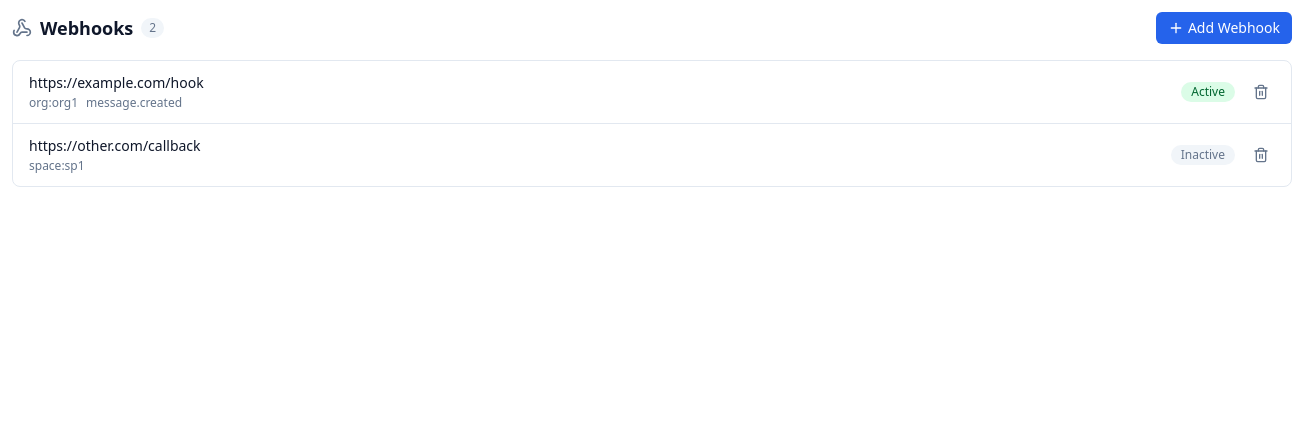
Test case: WebhookManager › shows create form when Add Webhook clicked
Click the button with test id "webhook-create-toggle" at (1224, 28), box [1156, 12, 1292, 44]
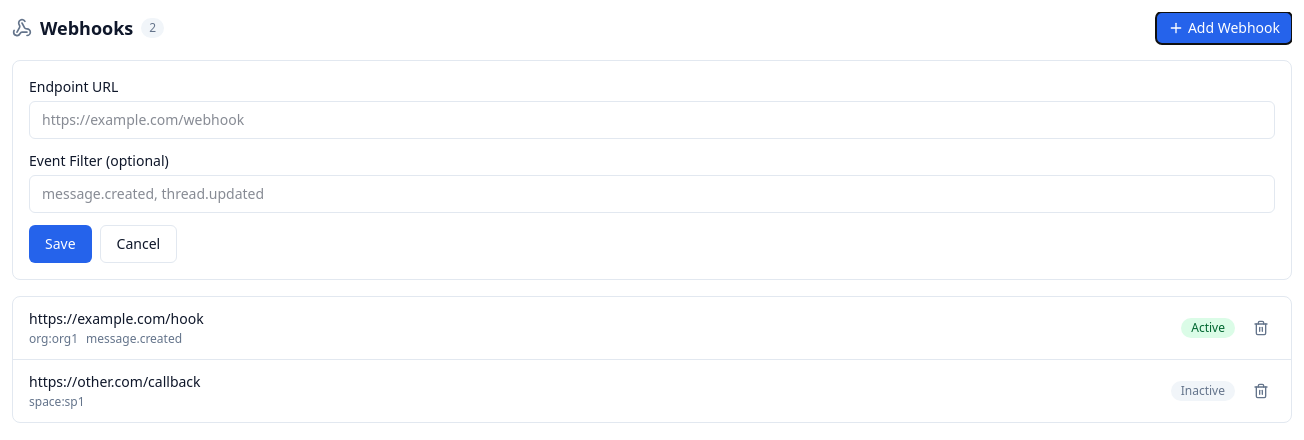
Expected: the form with test id "webhook-create-form" is shown, [12, 60, 1292, 280]
